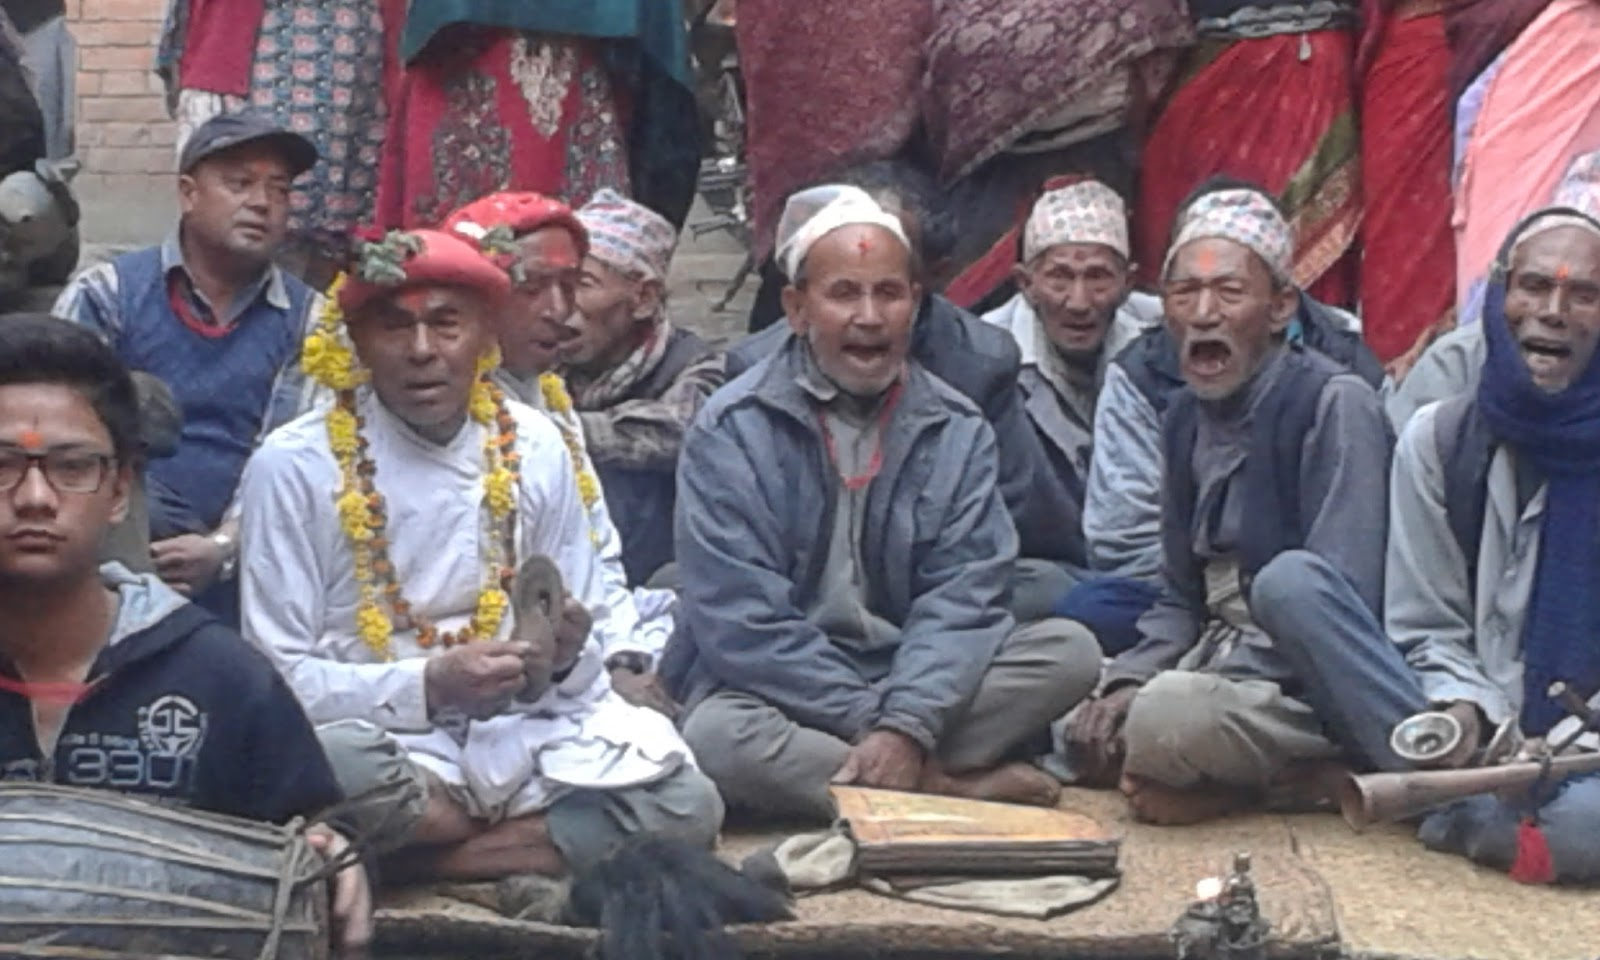human: (224, 212, 740, 915), (641, 195, 1121, 806), (1065, 170, 1403, 840), (1, 307, 373, 901), (1355, 190, 1600, 911), (29, 96, 311, 636), (955, 151, 1176, 518)
